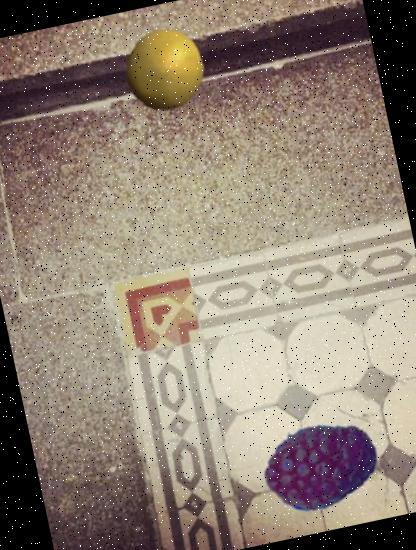Grapefruit: (117, 22, 213, 118)
Raspberry: (252, 396, 388, 532)
